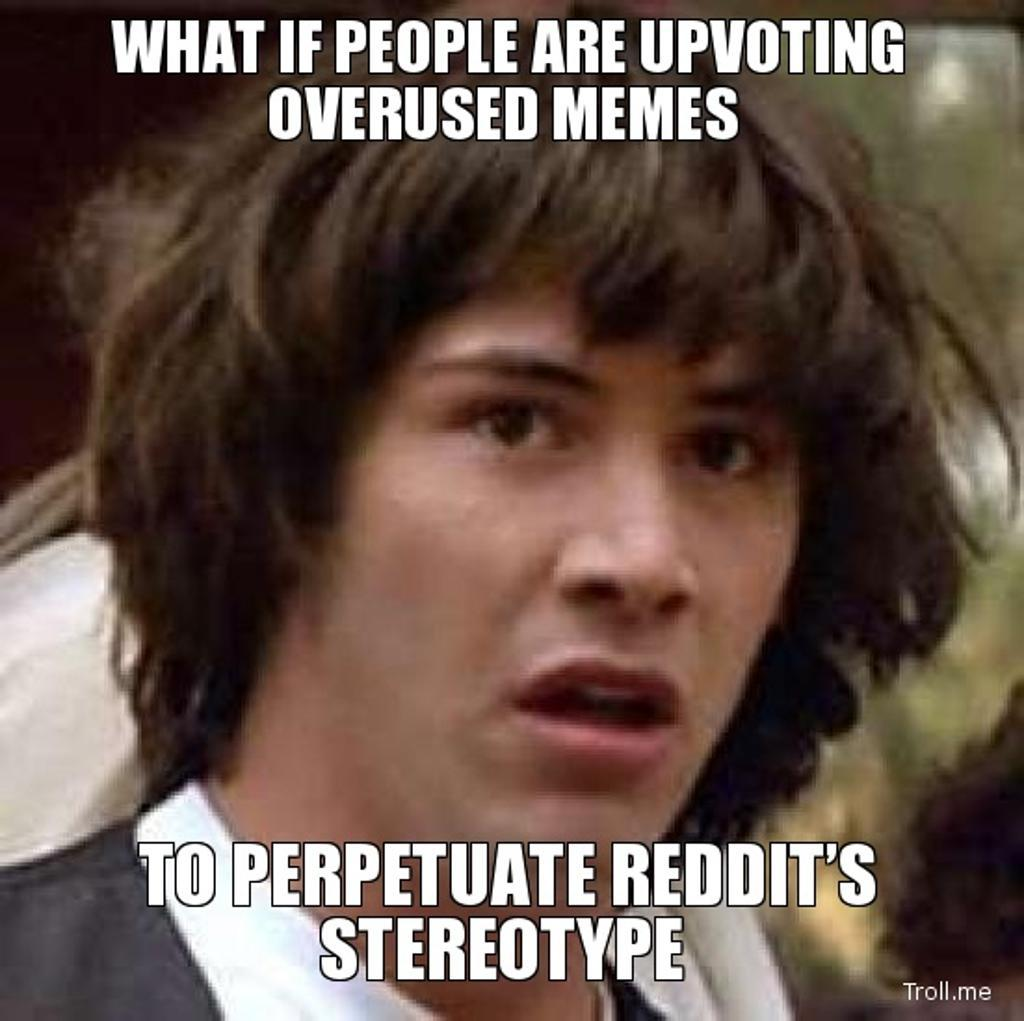face: (319, 197, 799, 877)
